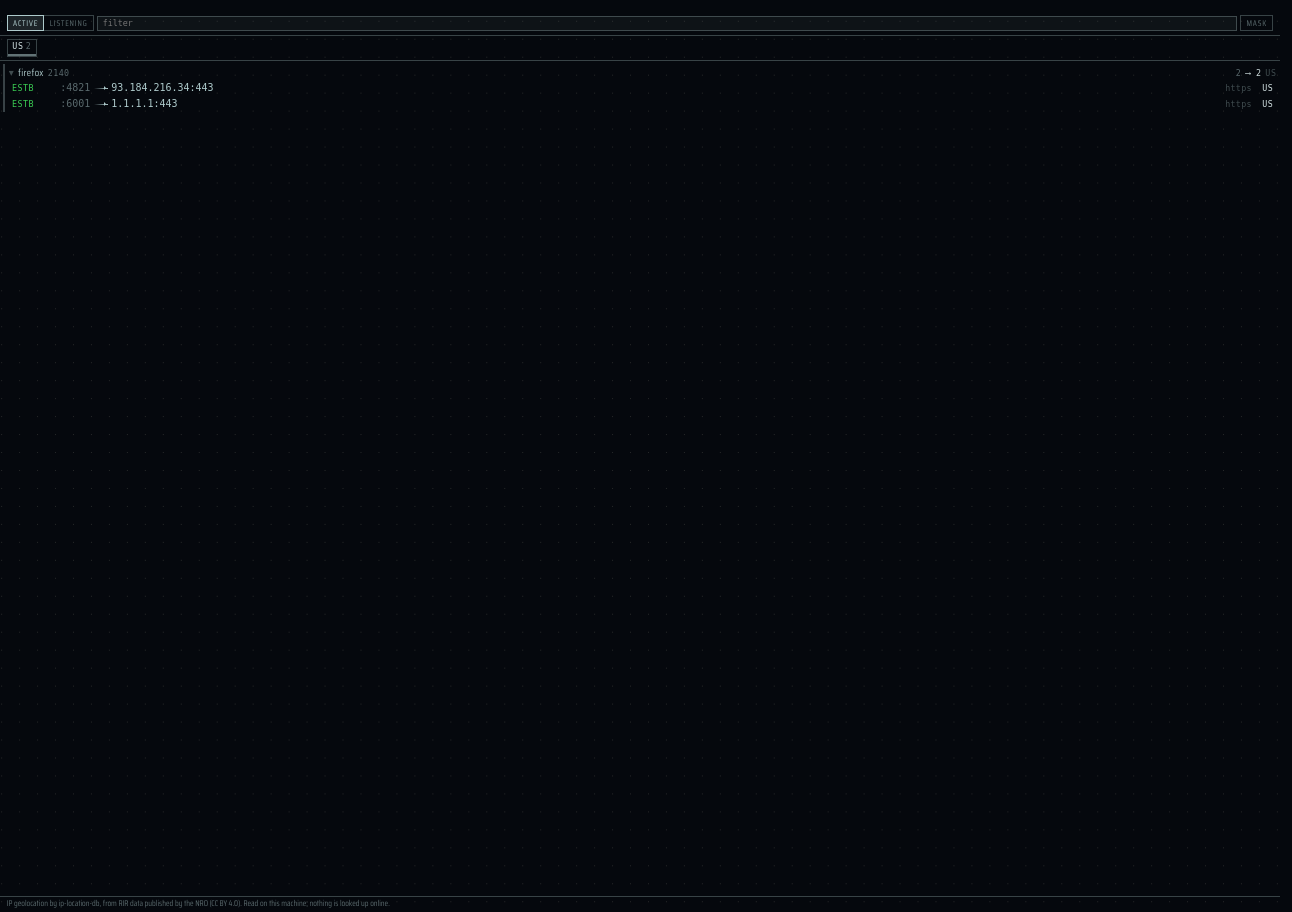
Test: ConnectionsWidget › filters on what a row shows
Type "elecdex" into the field with test id "connections-filter" at (667, 23), box [97,16,1237,31]
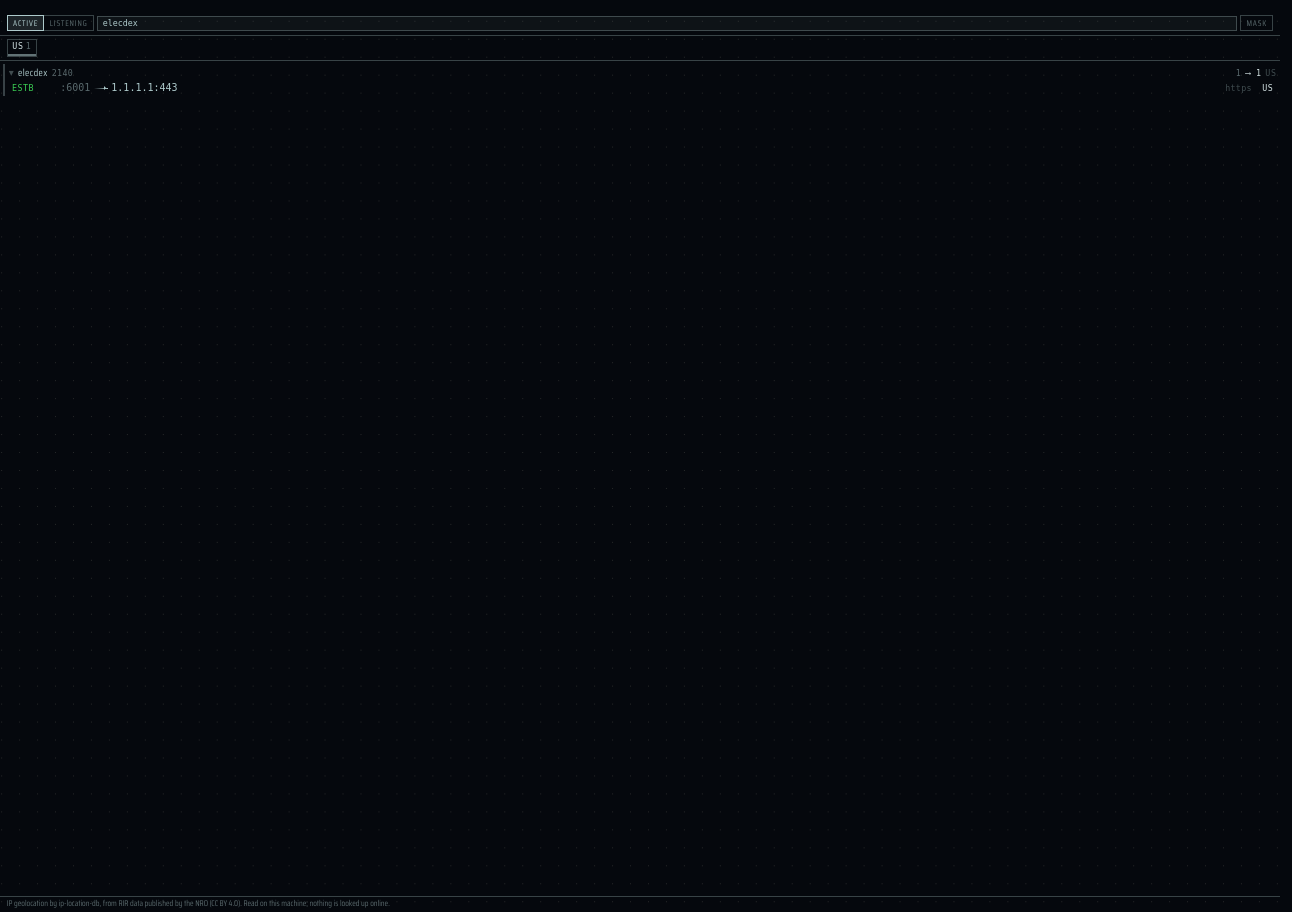
Now the number of list items with test id "connection-row" is 1, box [5,80,1280,96]
Replace the text in the field with test id "connections-filter" with "nothing" at (667, 23), box [97,16,1237,31]
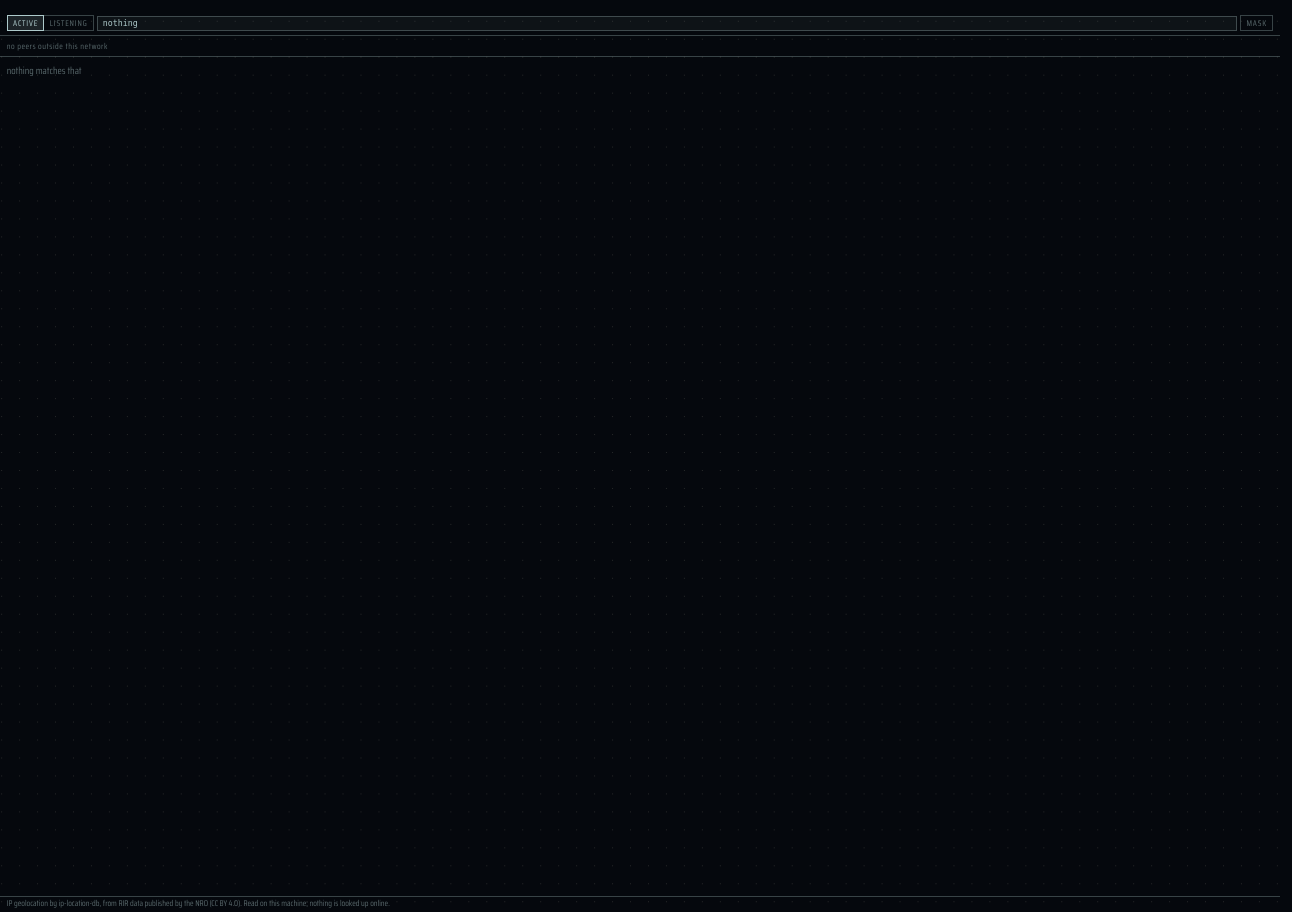
Now the text "nothing matches that" is shown, box [7,62,82,78]
